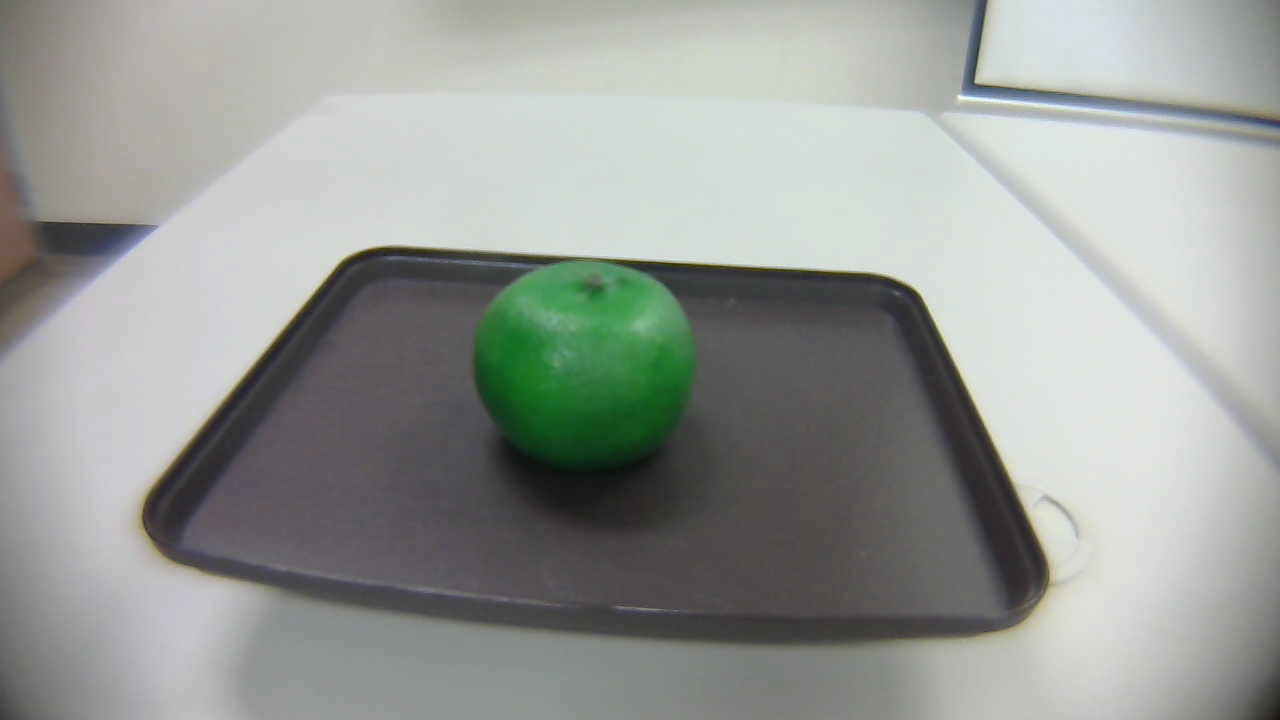green orange: (470, 255, 701, 487)
